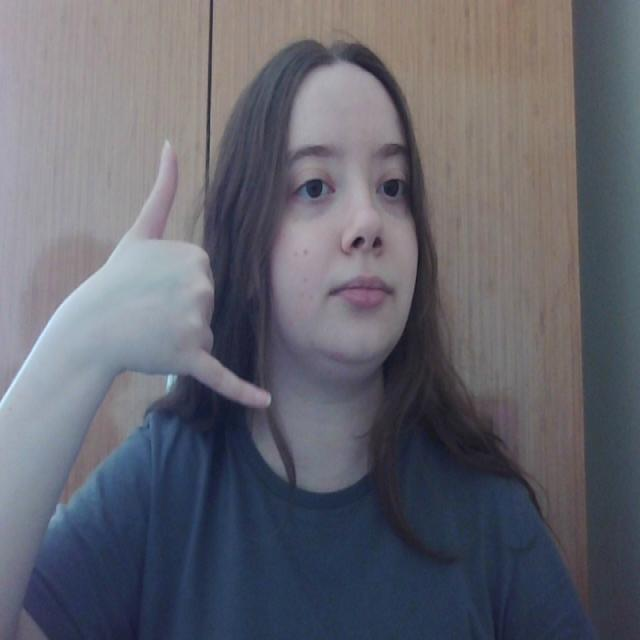Telefon: (133, 129, 275, 419)
